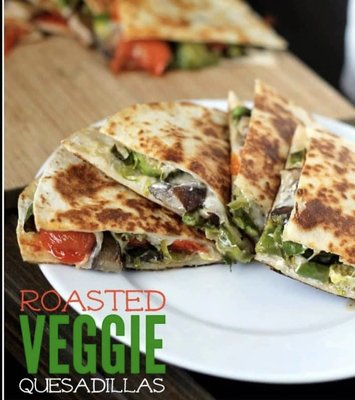curry: (6, 2, 354, 361)
sandwich: (22, 83, 320, 276), (250, 94, 355, 301)
